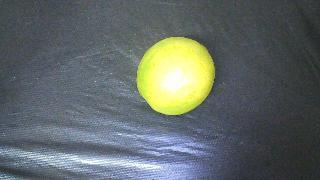LOCAL: (137, 37, 215, 115)
